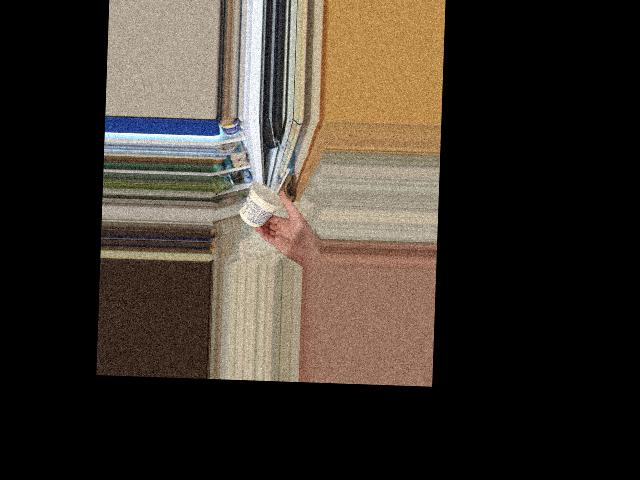cotage: (240, 179, 282, 221)
